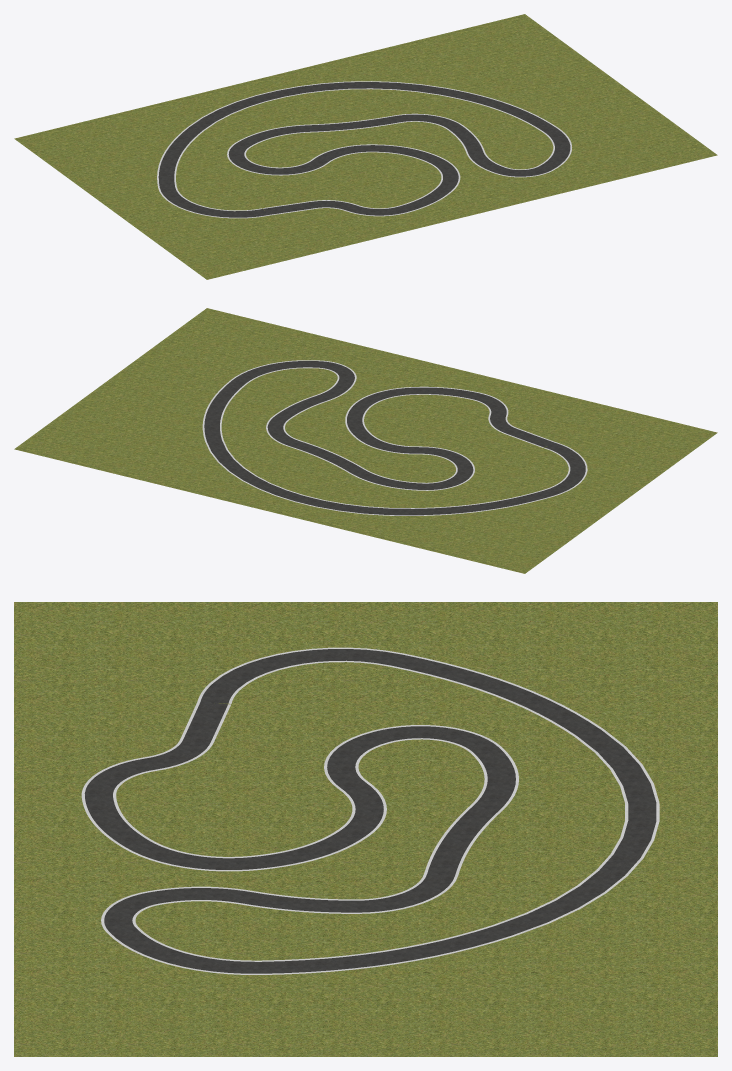
File: track3.dae
3 views of the same model, one above another, from view 1: azimuth 30°, elevation 25°; view 2: azimuth 150°, elevation 25°; view 3: azimuth 270°, elevation 25° (orthographic). The views are drawn at different scales.
Parts seen in each view (by area): view 1: field, road, outerline, innerline; view 2: field, road, outerline, innerline; view 3: field, road, outerline, innerline.
Boxes of the visible parts, x1,y1,x2,y2 form: field: (14, 14, 717, 279); road: (158, 82, 570, 217); outerline: (157, 81, 571, 218); innerline: (174, 88, 554, 211); field: (14, 308, 717, 573); road: (204, 361, 585, 515); outerline: (202, 360, 587, 515); innerline: (220, 367, 570, 508); field: (14, 602, 717, 1056); road: (84, 649, 656, 973); outerline: (81, 647, 659, 974); innerline: (113, 660, 628, 961).
Bounding box in the file's own units: 62.36 × 40.8 × 0.01.
3 materials, 3 textured.
